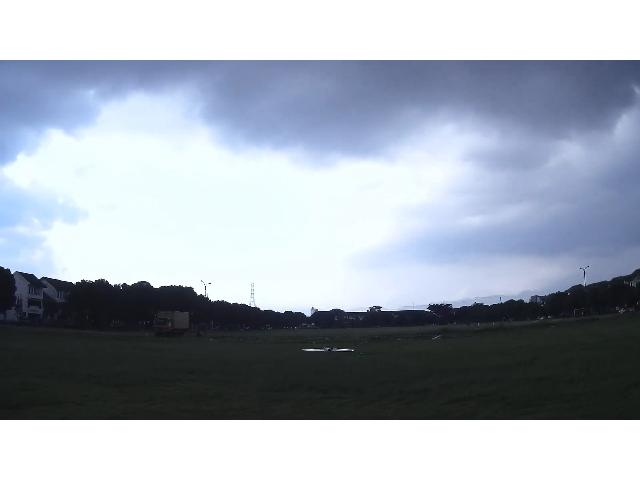Anti-Drone: (302, 347, 354, 353)
